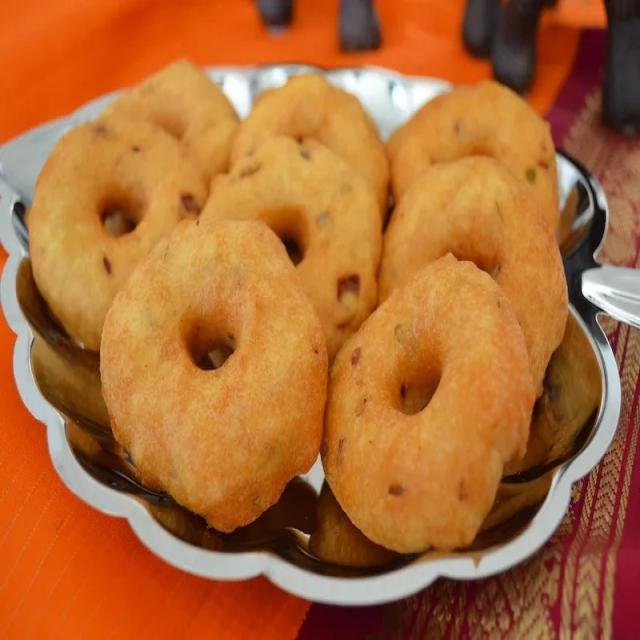medu vadai: (99, 216, 329, 528), (325, 256, 536, 549), (27, 69, 233, 351), (381, 157, 567, 412), (198, 135, 380, 369), (389, 80, 559, 241), (230, 72, 388, 223)
